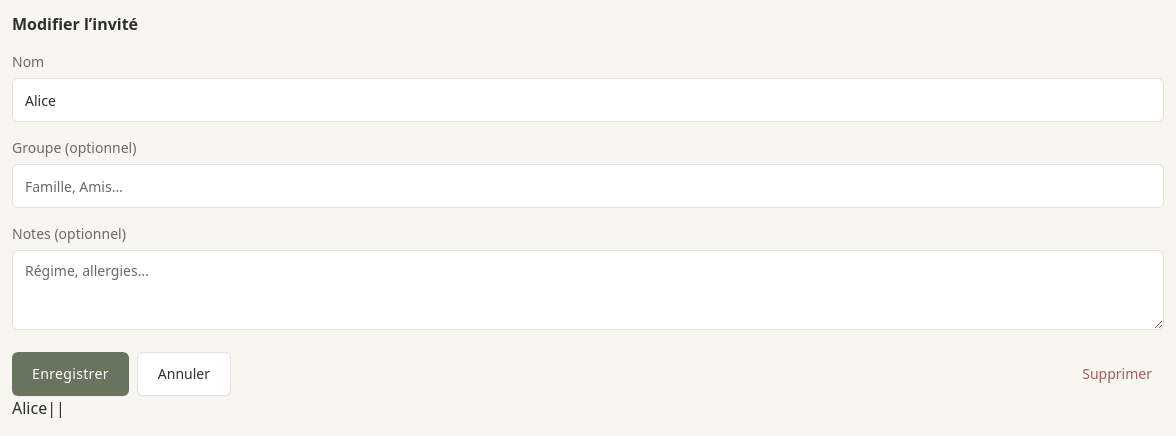
Test: GuestEditor › edits the guest name on submit
This screenshot has width=1176, height=436.
Replace the text in the field labelled "Nom" with "Alicia": [588, 100] box [12,78,1164,122]
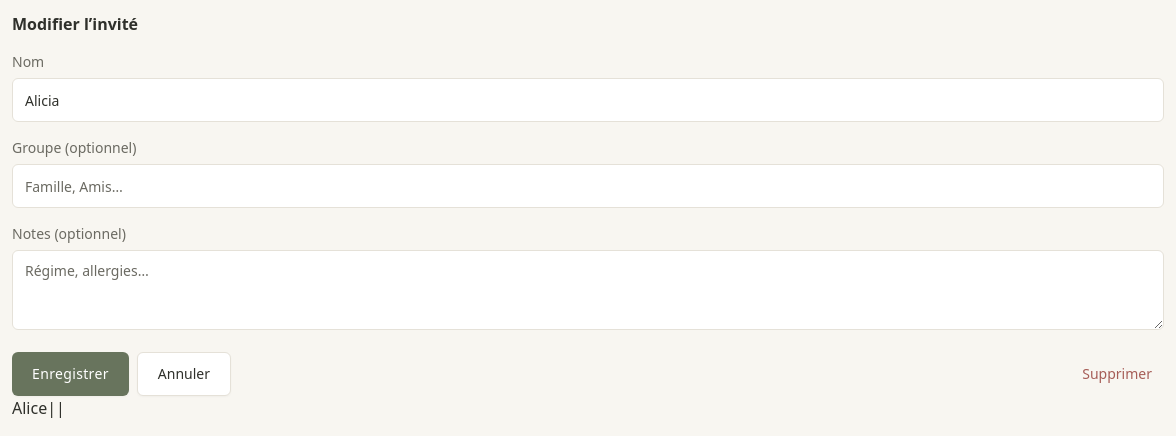
Submit the form
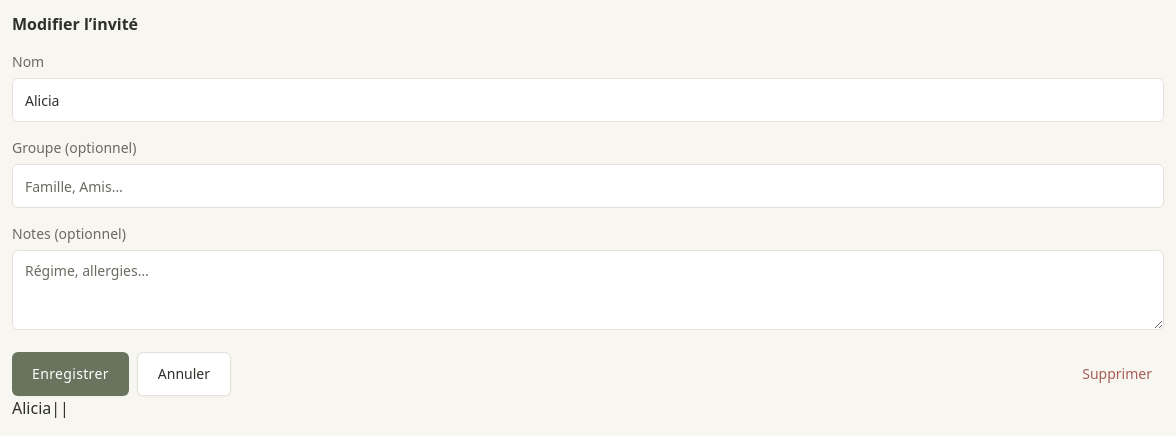
Expected: the list with test id "probe" does not show "Alice||", [12,397,51,419]
Result: the list with test id "probe" reads "Alicia||" at [12,397,51,419]
